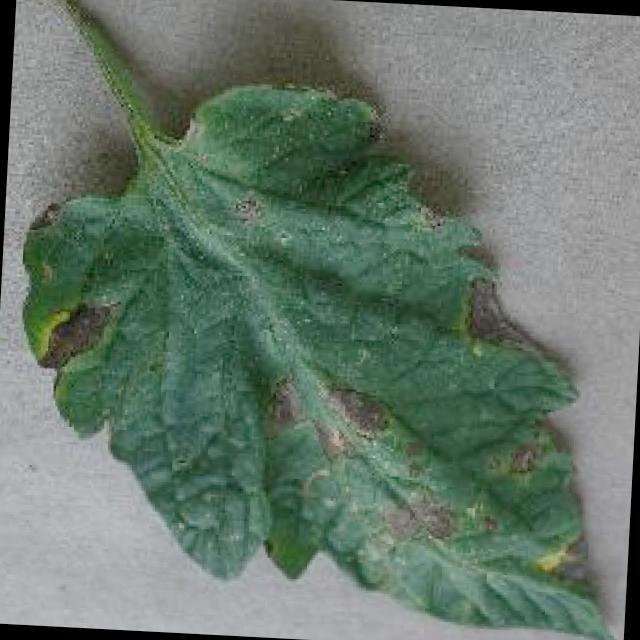Tomato Early blight leaf: (4, 62, 640, 640)
